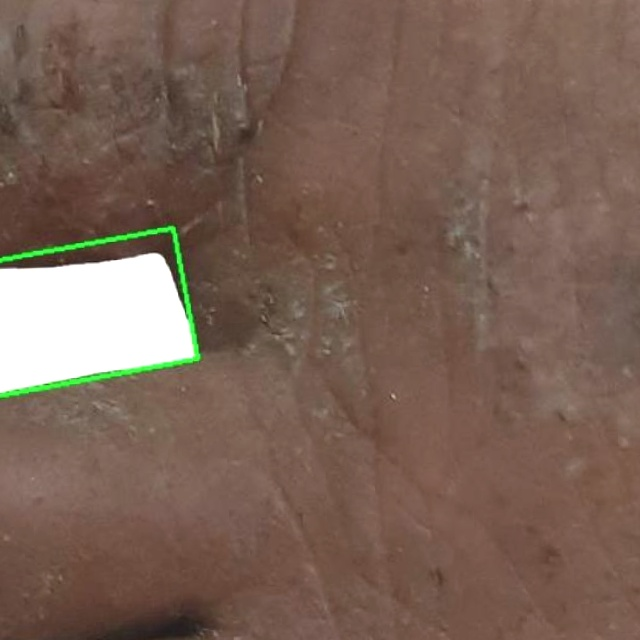Eczema: (0, 228, 200, 398)
